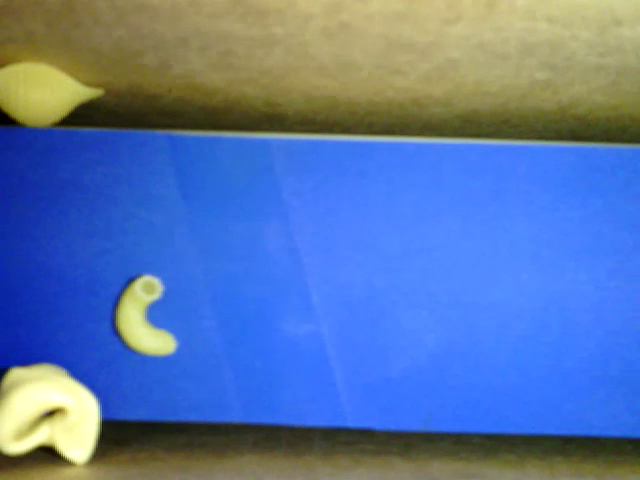elbow: (114, 273, 175, 355)
shell: (1, 64, 105, 129)
tortellini: (1, 363, 103, 463)
